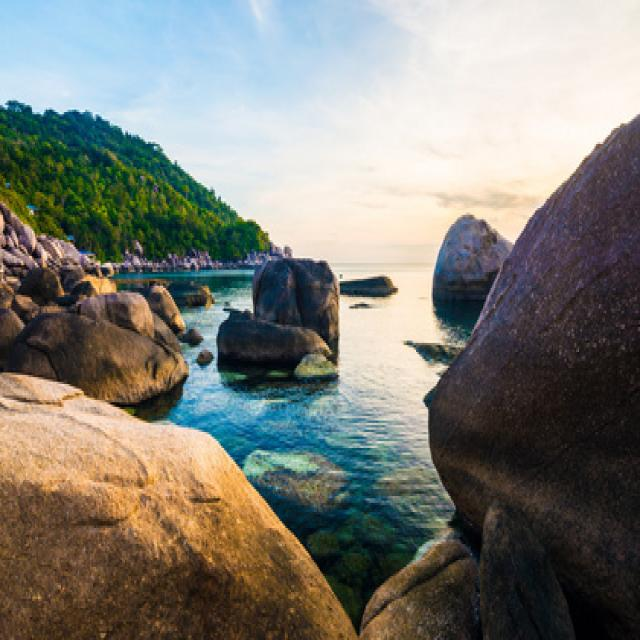island: (0, 82, 283, 274)
